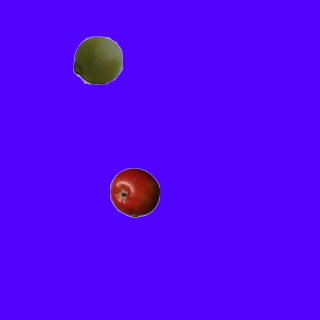Apple Braeburn: (109, 167, 159, 217)
Grape White 4: (72, 34, 122, 84)
